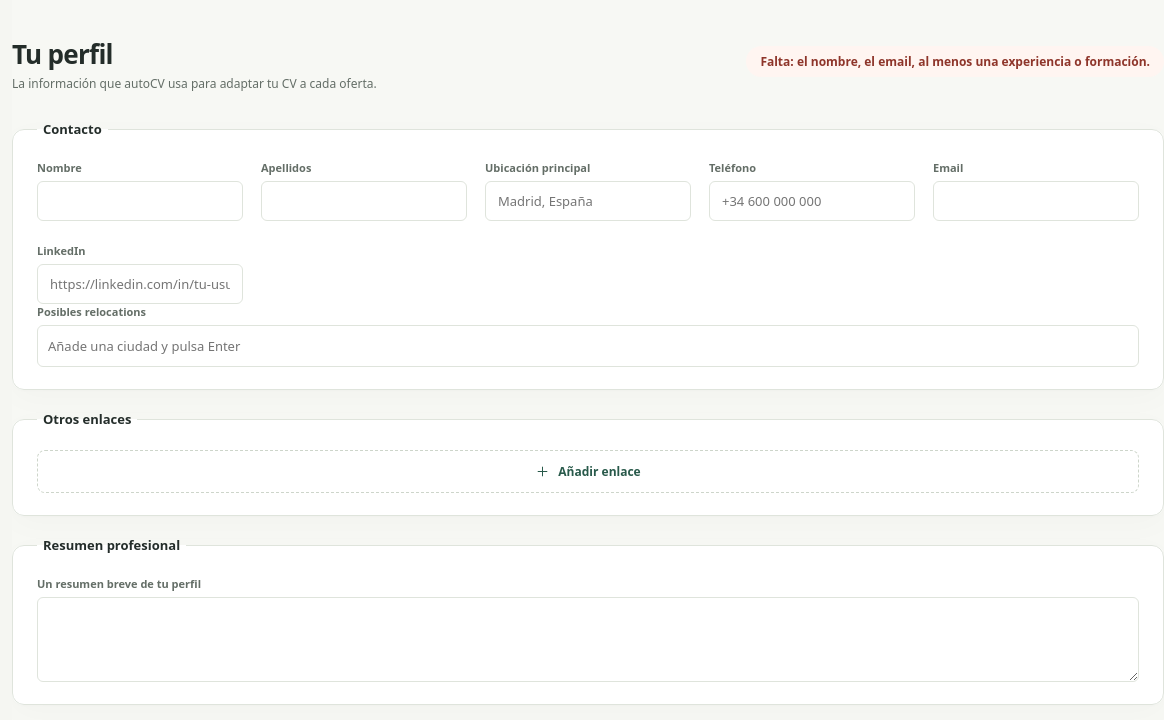
Test: ProfileEditor › adds and removes relocation tags
Check: the heading "Tu perfil" is shown, box [12,36,113,72]
Type "Barcelona" into the field labelled "Posibles relocations" at {"x": 588, "y": 346}, box [48,334,1128,358]
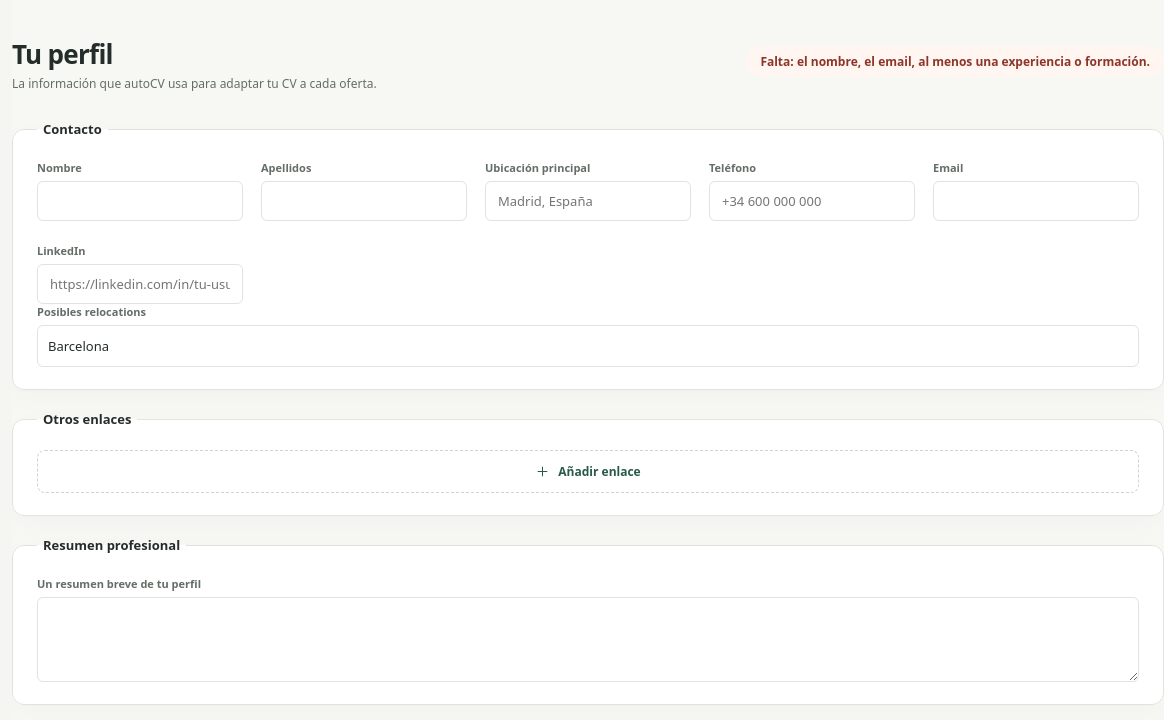
Press Enter in the field labelled "Posibles relocations", box [48,334,1128,358]
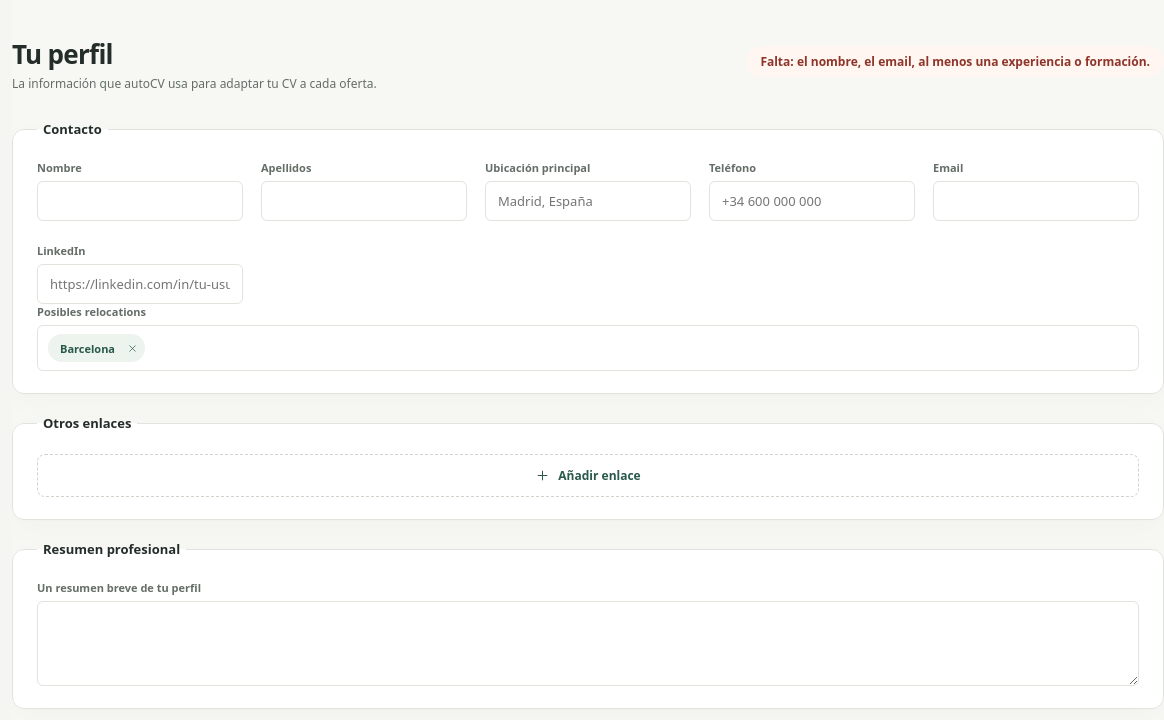
Check: the text "Barcelona" is shown, box [48,334,145,362]
Click the button named "Quitar Barcelona" at {"x": 130, "y": 348}, box [121,339,139,357]
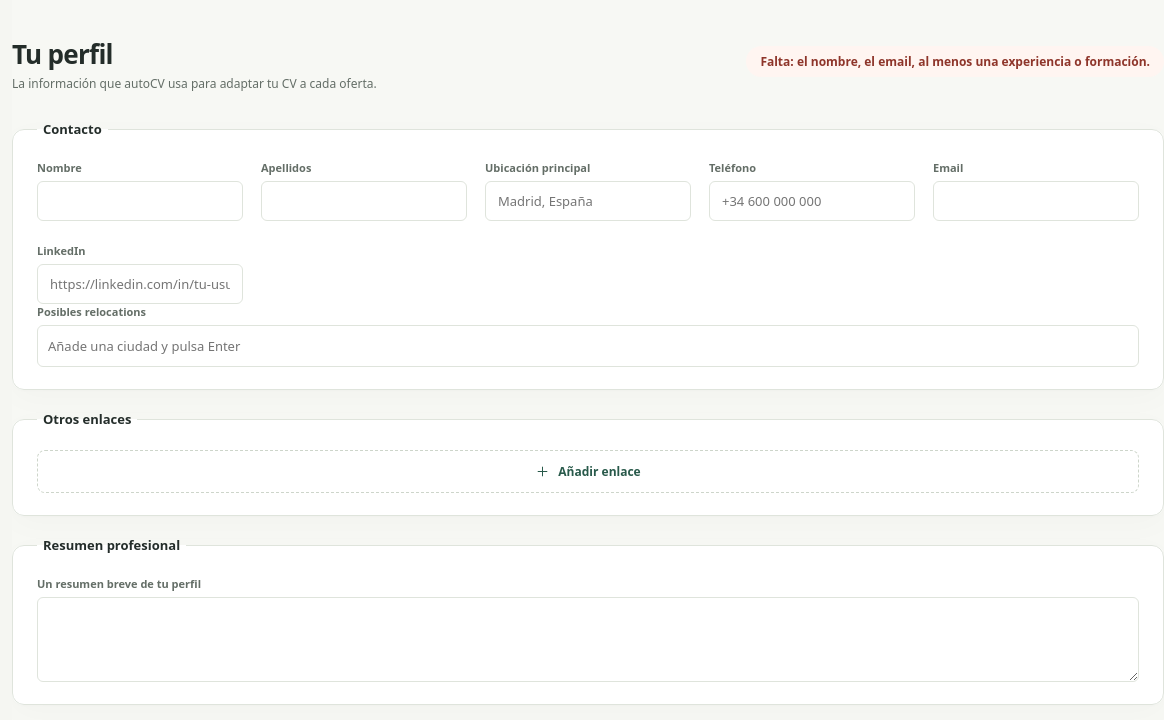
Check: the text "Barcelona" is gone
